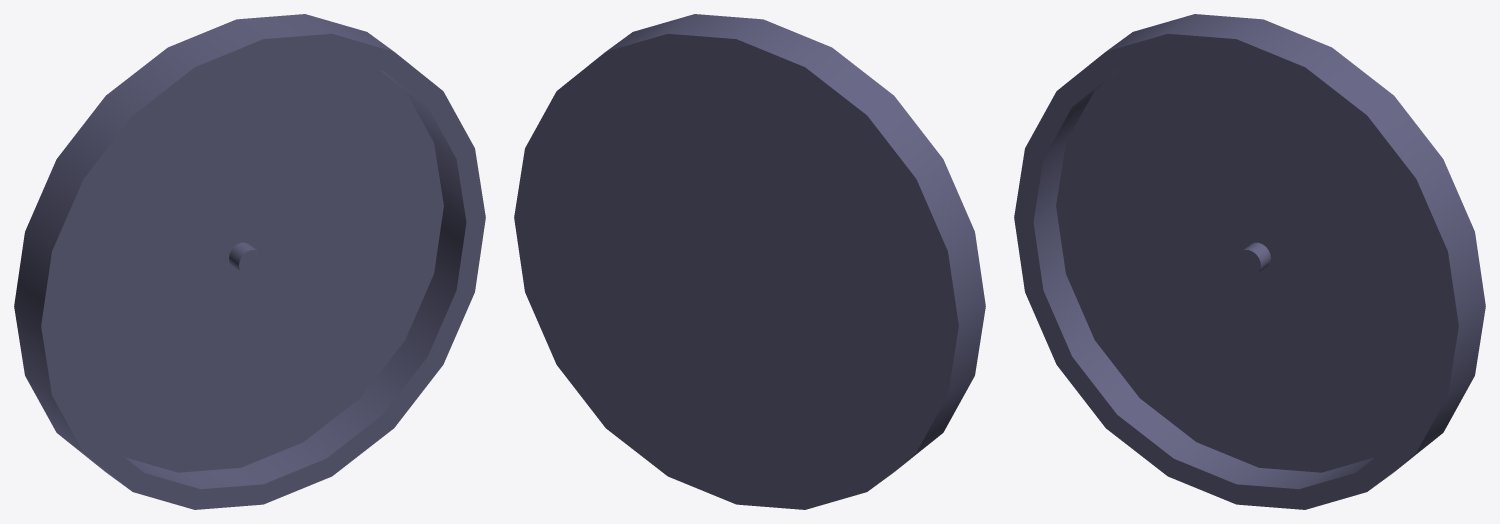
Rendered from Reloj.fbx.
3 views of the same model, side by side, from view 1: azimuth 30°, elevation 25°; view 2: azimuth 150°, elevation 25°; view 3: azimuth 330°, elevation 25° (orthographic).
Parts seen in each view (by area): view 1: Reloj; view 2: Reloj; view 3: Reloj.
Part boxes in pixels (x1,y1,x2,y2): Reloj: (14,14,485,509); Reloj: (514,14,985,509); Reloj: (1014,14,1485,509).
Size of the model in its own units: 0.6 by 0.6 by 0.0631.
